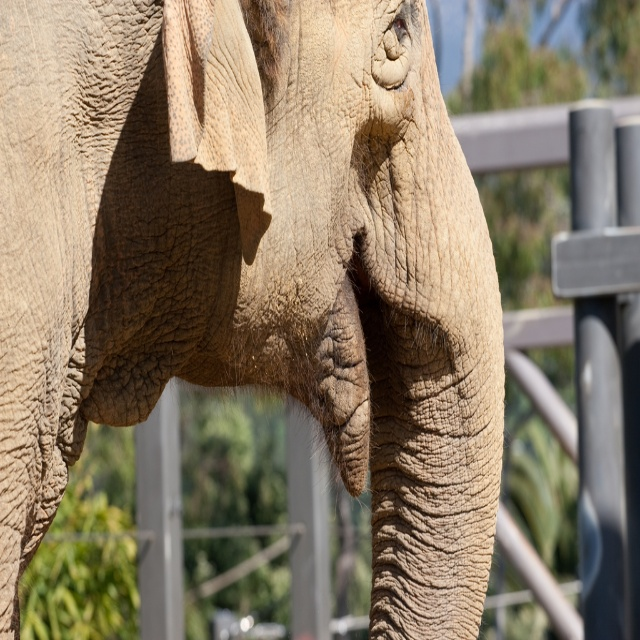Elephant: (24, 0, 522, 614)
